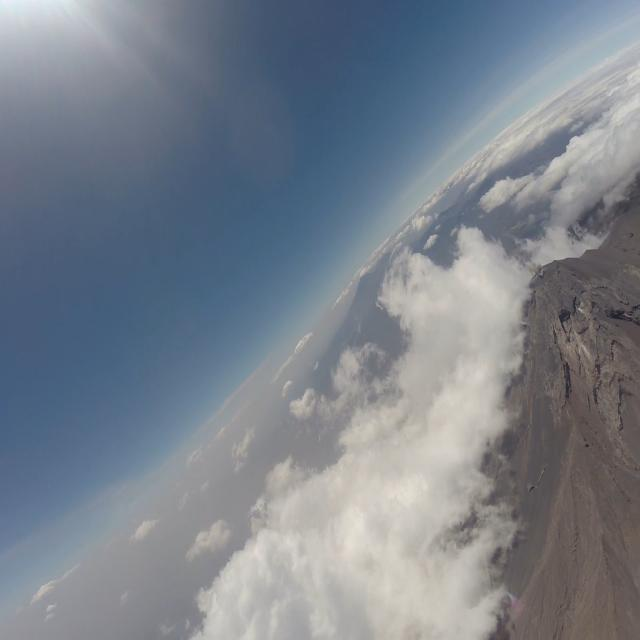Plume: (532, 258, 544, 279)
Summit: (502, 239, 640, 439)
